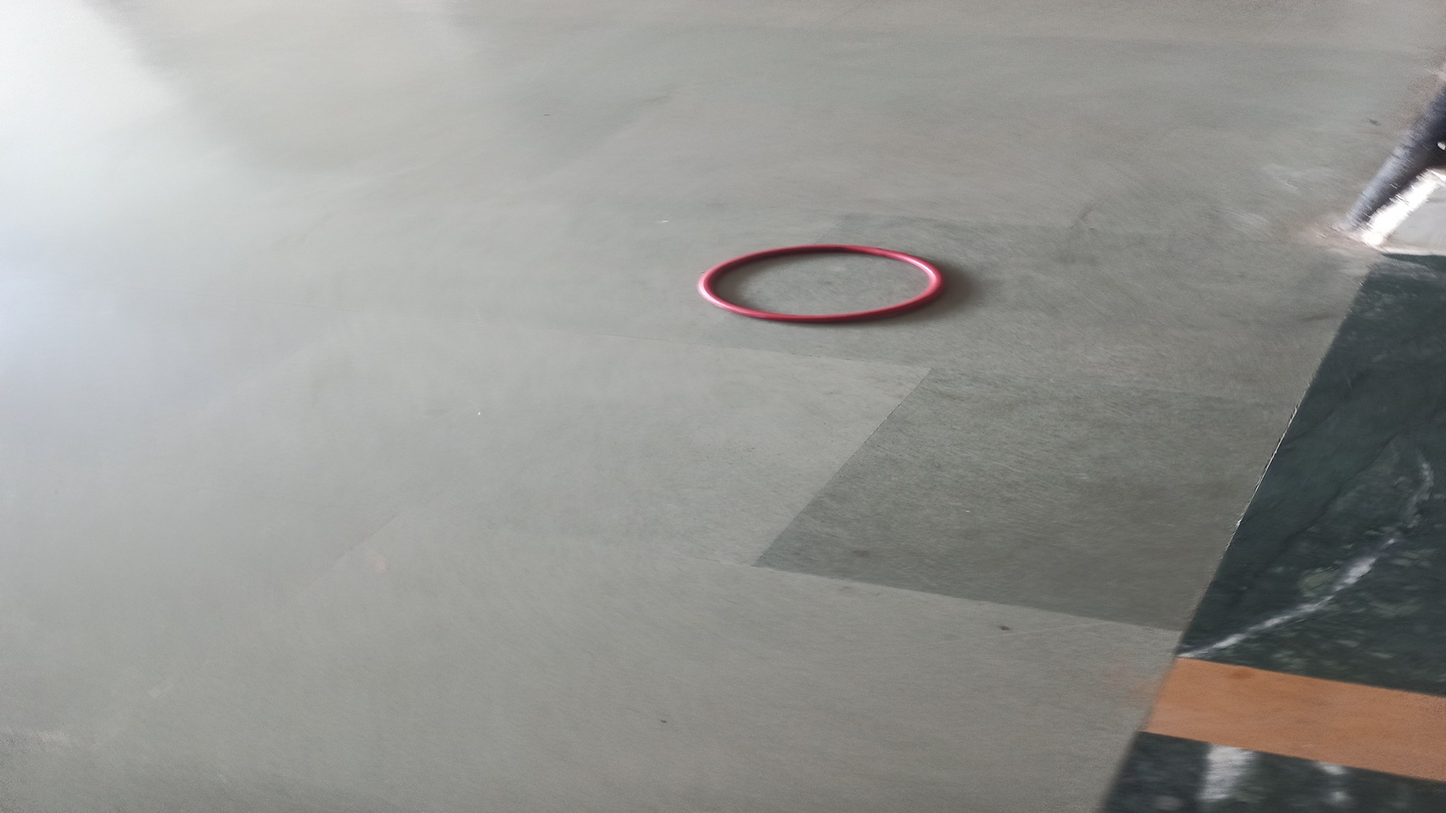Red ring: (697, 242, 946, 327)
